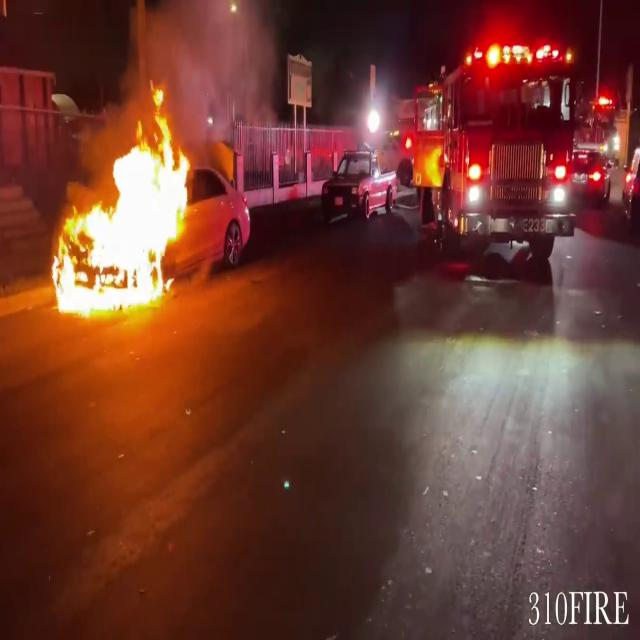Fire: (46, 85, 200, 319)
Smoke: (122, 0, 278, 135)
